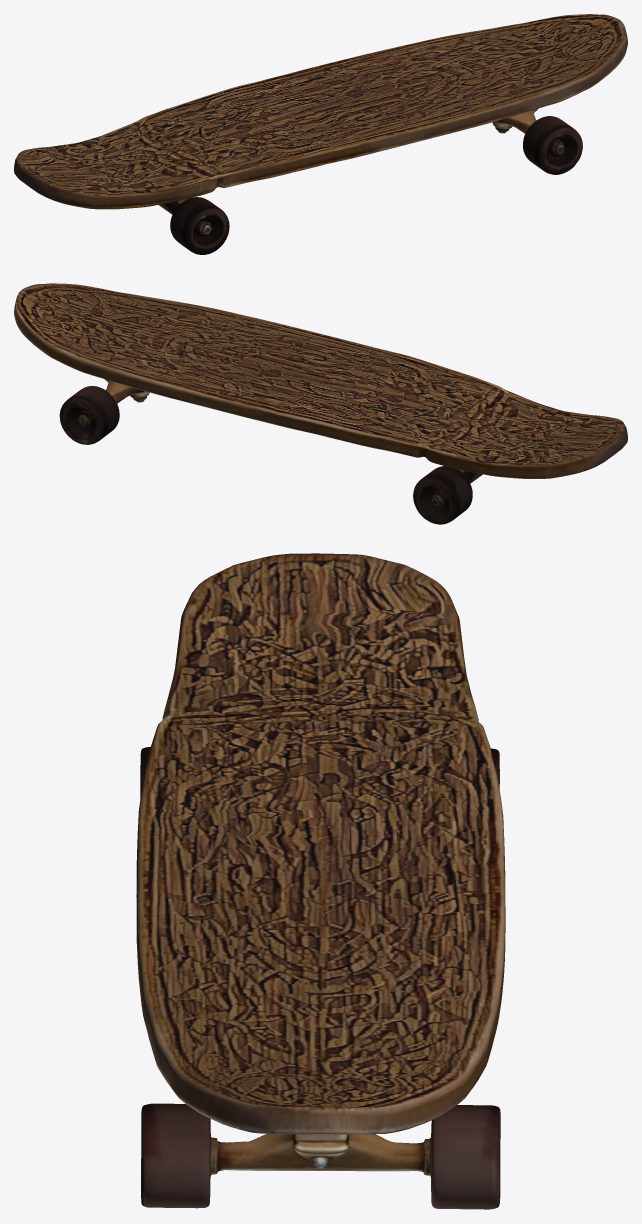
The model's file is CCG_Deck_BulldogCrest_web.glb.
The picture shows the model from 3 angles, top to bottom: view 1: azimuth 30°, elevation 25°; view 2: azimuth 150°, elevation 25°; view 3: azimuth 270°, elevation 25°; orthographic projection. The views are drawn at different scales.
Visible parts, largest first — view 1: SM_Deck_BulldogCrest; view 2: SM_Deck_BulldogCrest; view 3: SM_Deck_BulldogCrest.
Boxes of the visible parts, box(x1,y1,x2,y2) form: SM_Deck_BulldogCrest: box(14, 14, 627, 254); SM_Deck_BulldogCrest: box(14, 283, 627, 524); SM_Deck_BulldogCrest: box(136, 553, 505, 1209).
Size of the model in its own units: 0.82 by 0.1295 by 0.2208.
Materials: 1 (1 with a texture image).
